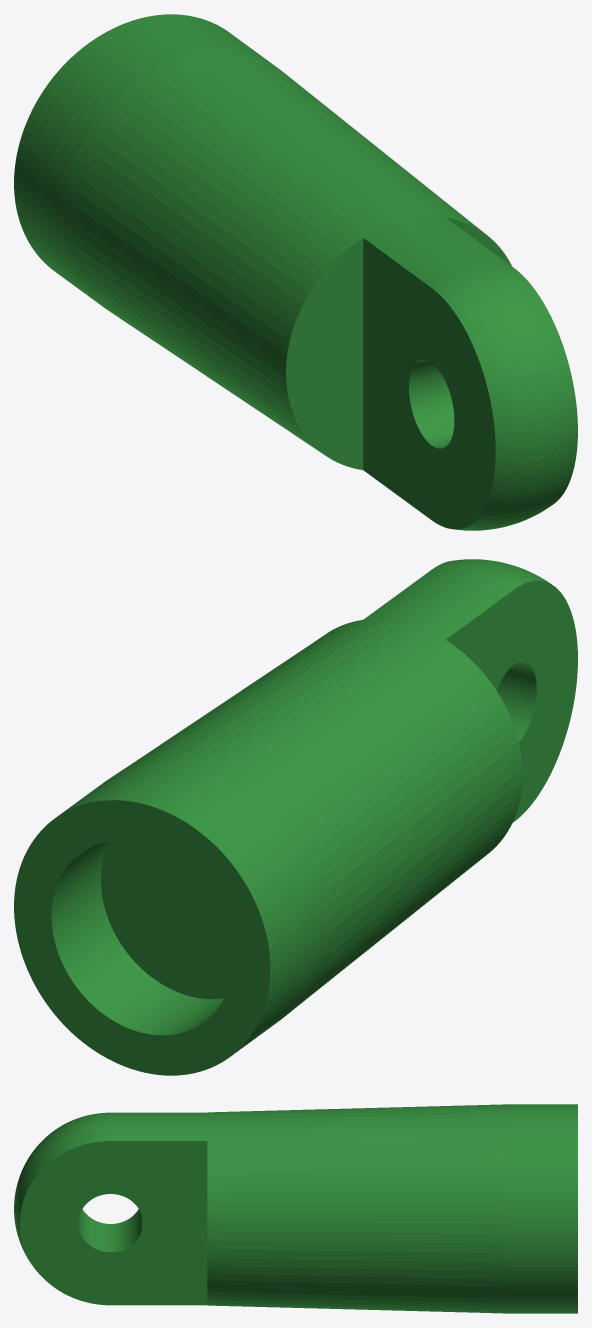
3 renders of one model, top to bottom at view 1: azimuth 30°, elevation 25°; view 2: azimuth 150°, elevation 25°; view 3: azimuth 270°, elevation 25°, orthographic. The views are drawn at different scales.
Parts seen in each view (by area): view 1: node; view 2: node; view 3: node.
Part boxes in pixels (left/top/right/bottom): node: left=14, top=14, right=577, bottom=530; node: left=14, top=559, right=577, bottom=1075; node: left=14, top=1104, right=577, bottom=1313.
Size of the model in its own units: 0.0696 by 0.0695 by 0.1874.
